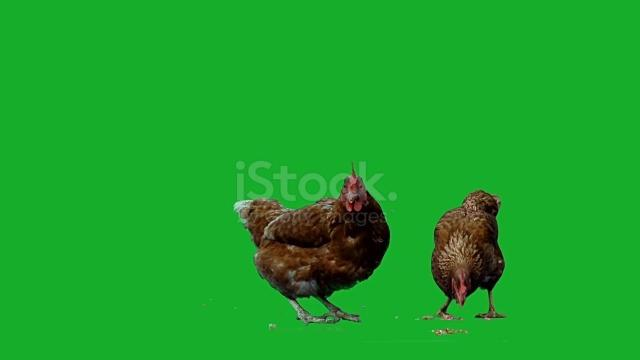Normal: (232, 167, 385, 324), (426, 183, 511, 326)
